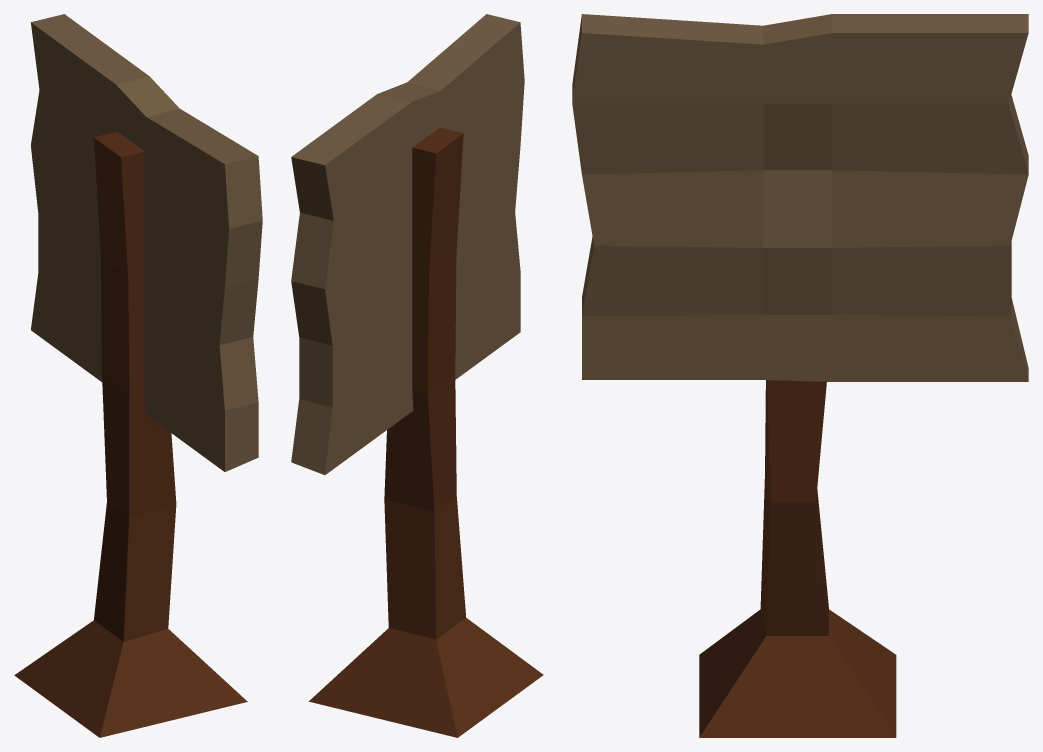
The model's file is scrollPost.fbx.
3 views of the same model, side by side, from view 1: azimuth 30°, elevation 25°; view 2: azimuth 150°, elevation 25°; view 3: azimuth 270°, elevation 25° (orthographic). The views are drawn at different scales.
Visible parts, largest first — view 1: Cube; view 2: Cube; view 3: Cube.
Part boxes in pixels (box(x1,y1,x2,y2)): Cube: box(14, 14, 262, 737); Cube: box(291, 14, 543, 737); Cube: box(572, 14, 1028, 737).
Bounding box in the file's own units: 122 × 467 × 283.
